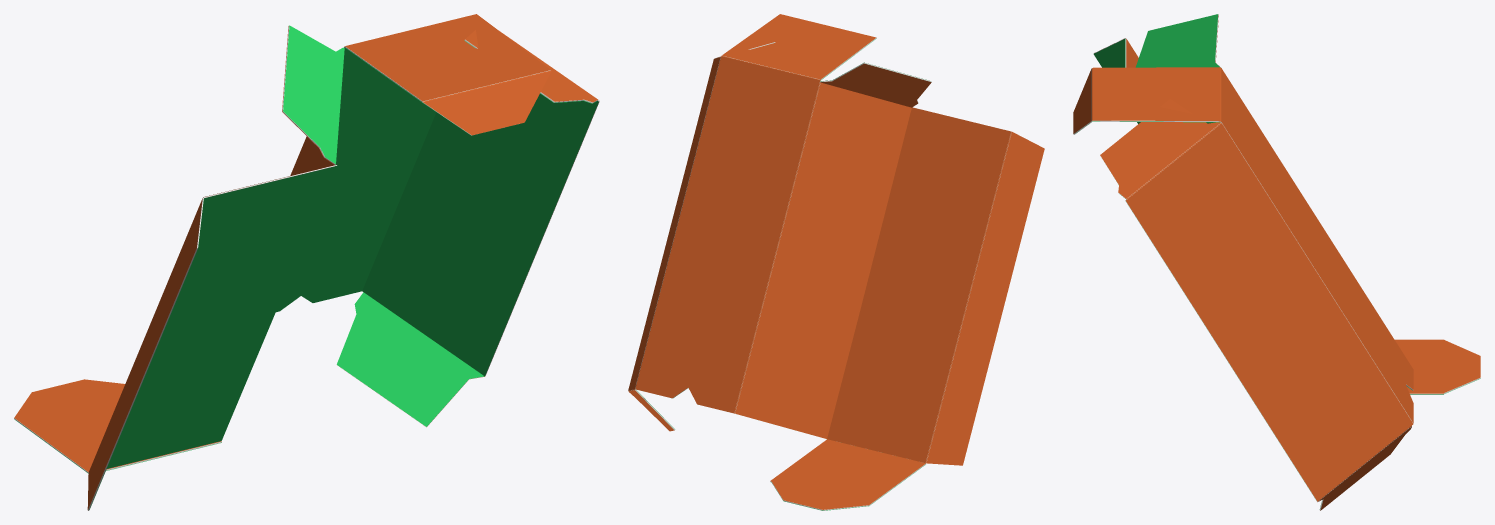
The model's file is glb-sombraArte60.glb.
The picture shows the model from 3 angles, left to right: view 1: azimuth 30°, elevation 25°; view 2: azimuth 150°, elevation 25°; view 3: azimuth 270°, elevation 25°; orthographic projection. The views are drawn at different scales.
Visible parts, largest first — view 1: mesh_11, mesh_23, mesh_8, mesh_1, mesh_14, mesh_28, mesh_32, mesh_25, mesh_4, mesh_16, mesh_19; view 2: mesh_7, mesh_22, mesh_19, mesh_25, mesh_28, mesh_1, mesh_31, mesh_10; view 3: mesh_10, mesh_7, mesh_1, mesh_16, mesh_28, mesh_32, mesh_13, mesh_4, mesh_26.
Part boxes in pixels (box(x1,y1,x2,y2)): mesh_11: box(362, 93, 598, 376); mesh_23: box(107, 166, 336, 468); mesh_8: box(276, 48, 436, 312); mesh_1: box(345, 14, 550, 101); mesh_14: box(337, 292, 484, 426); mesh_28: box(14, 379, 221, 471); mesh_32: box(283, 25, 344, 163); mesh_25: box(87, 198, 202, 509); mesh_4: box(423, 71, 551, 135); mesh_16: box(465, 30, 597, 102); mesh_19: box(290, 136, 333, 175); mesh_7: box(635, 56, 820, 413); mesh_22: box(827, 107, 1010, 462); mesh_19: box(735, 82, 911, 438); mesh_25: box(926, 132, 1044, 465); mesh_28: box(770, 439, 925, 509); mesh_1: box(722, 14, 876, 79); mesh_31: box(821, 63, 931, 107); mesh_10: box(628, 57, 720, 390); mesh_10: box(1126, 124, 1412, 501); mesh_7: box(1221, 68, 1413, 422); mesh_1: box(1092, 67, 1220, 121); mesh_16: box(1100, 98, 1220, 198); mesh_28: box(1395, 339, 1480, 393); mesh_32: box(1135, 14, 1219, 67); mesh_13: box(1318, 426, 1411, 510); mesh_4: box(1073, 69, 1091, 133); mesh_26: box(1093, 39, 1140, 123).
Size of the model in its own units: 0.1281 by 0.1436 by 0.1275.
Materials: 4 (2 with a texture image).
